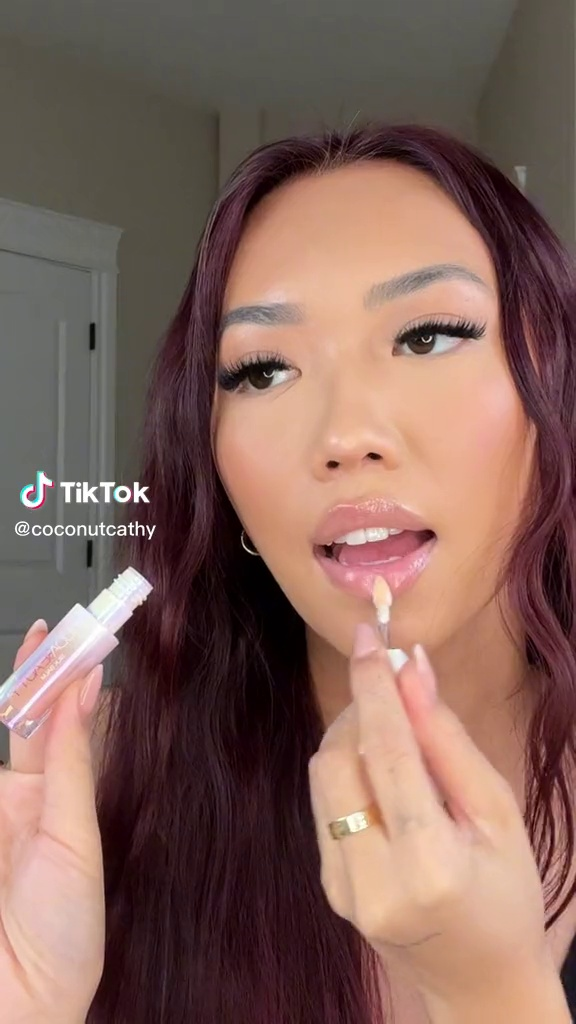train' :'yolo_data/train/images',: (1, 561, 158, 746), (342, 570, 408, 751)
